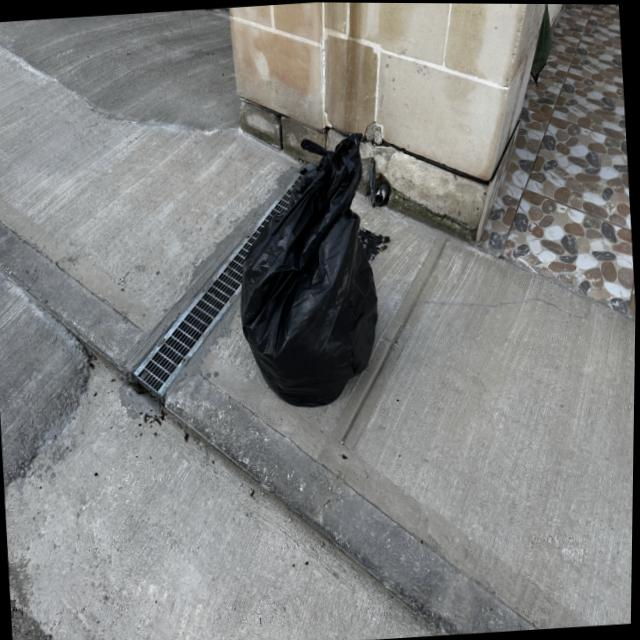Mixed Waste -Black Bags-: (241, 133, 379, 408)
